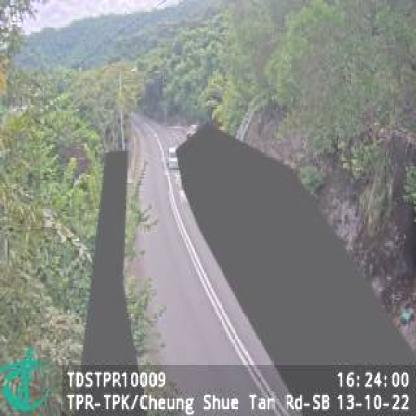Car: (168, 146, 181, 172)
